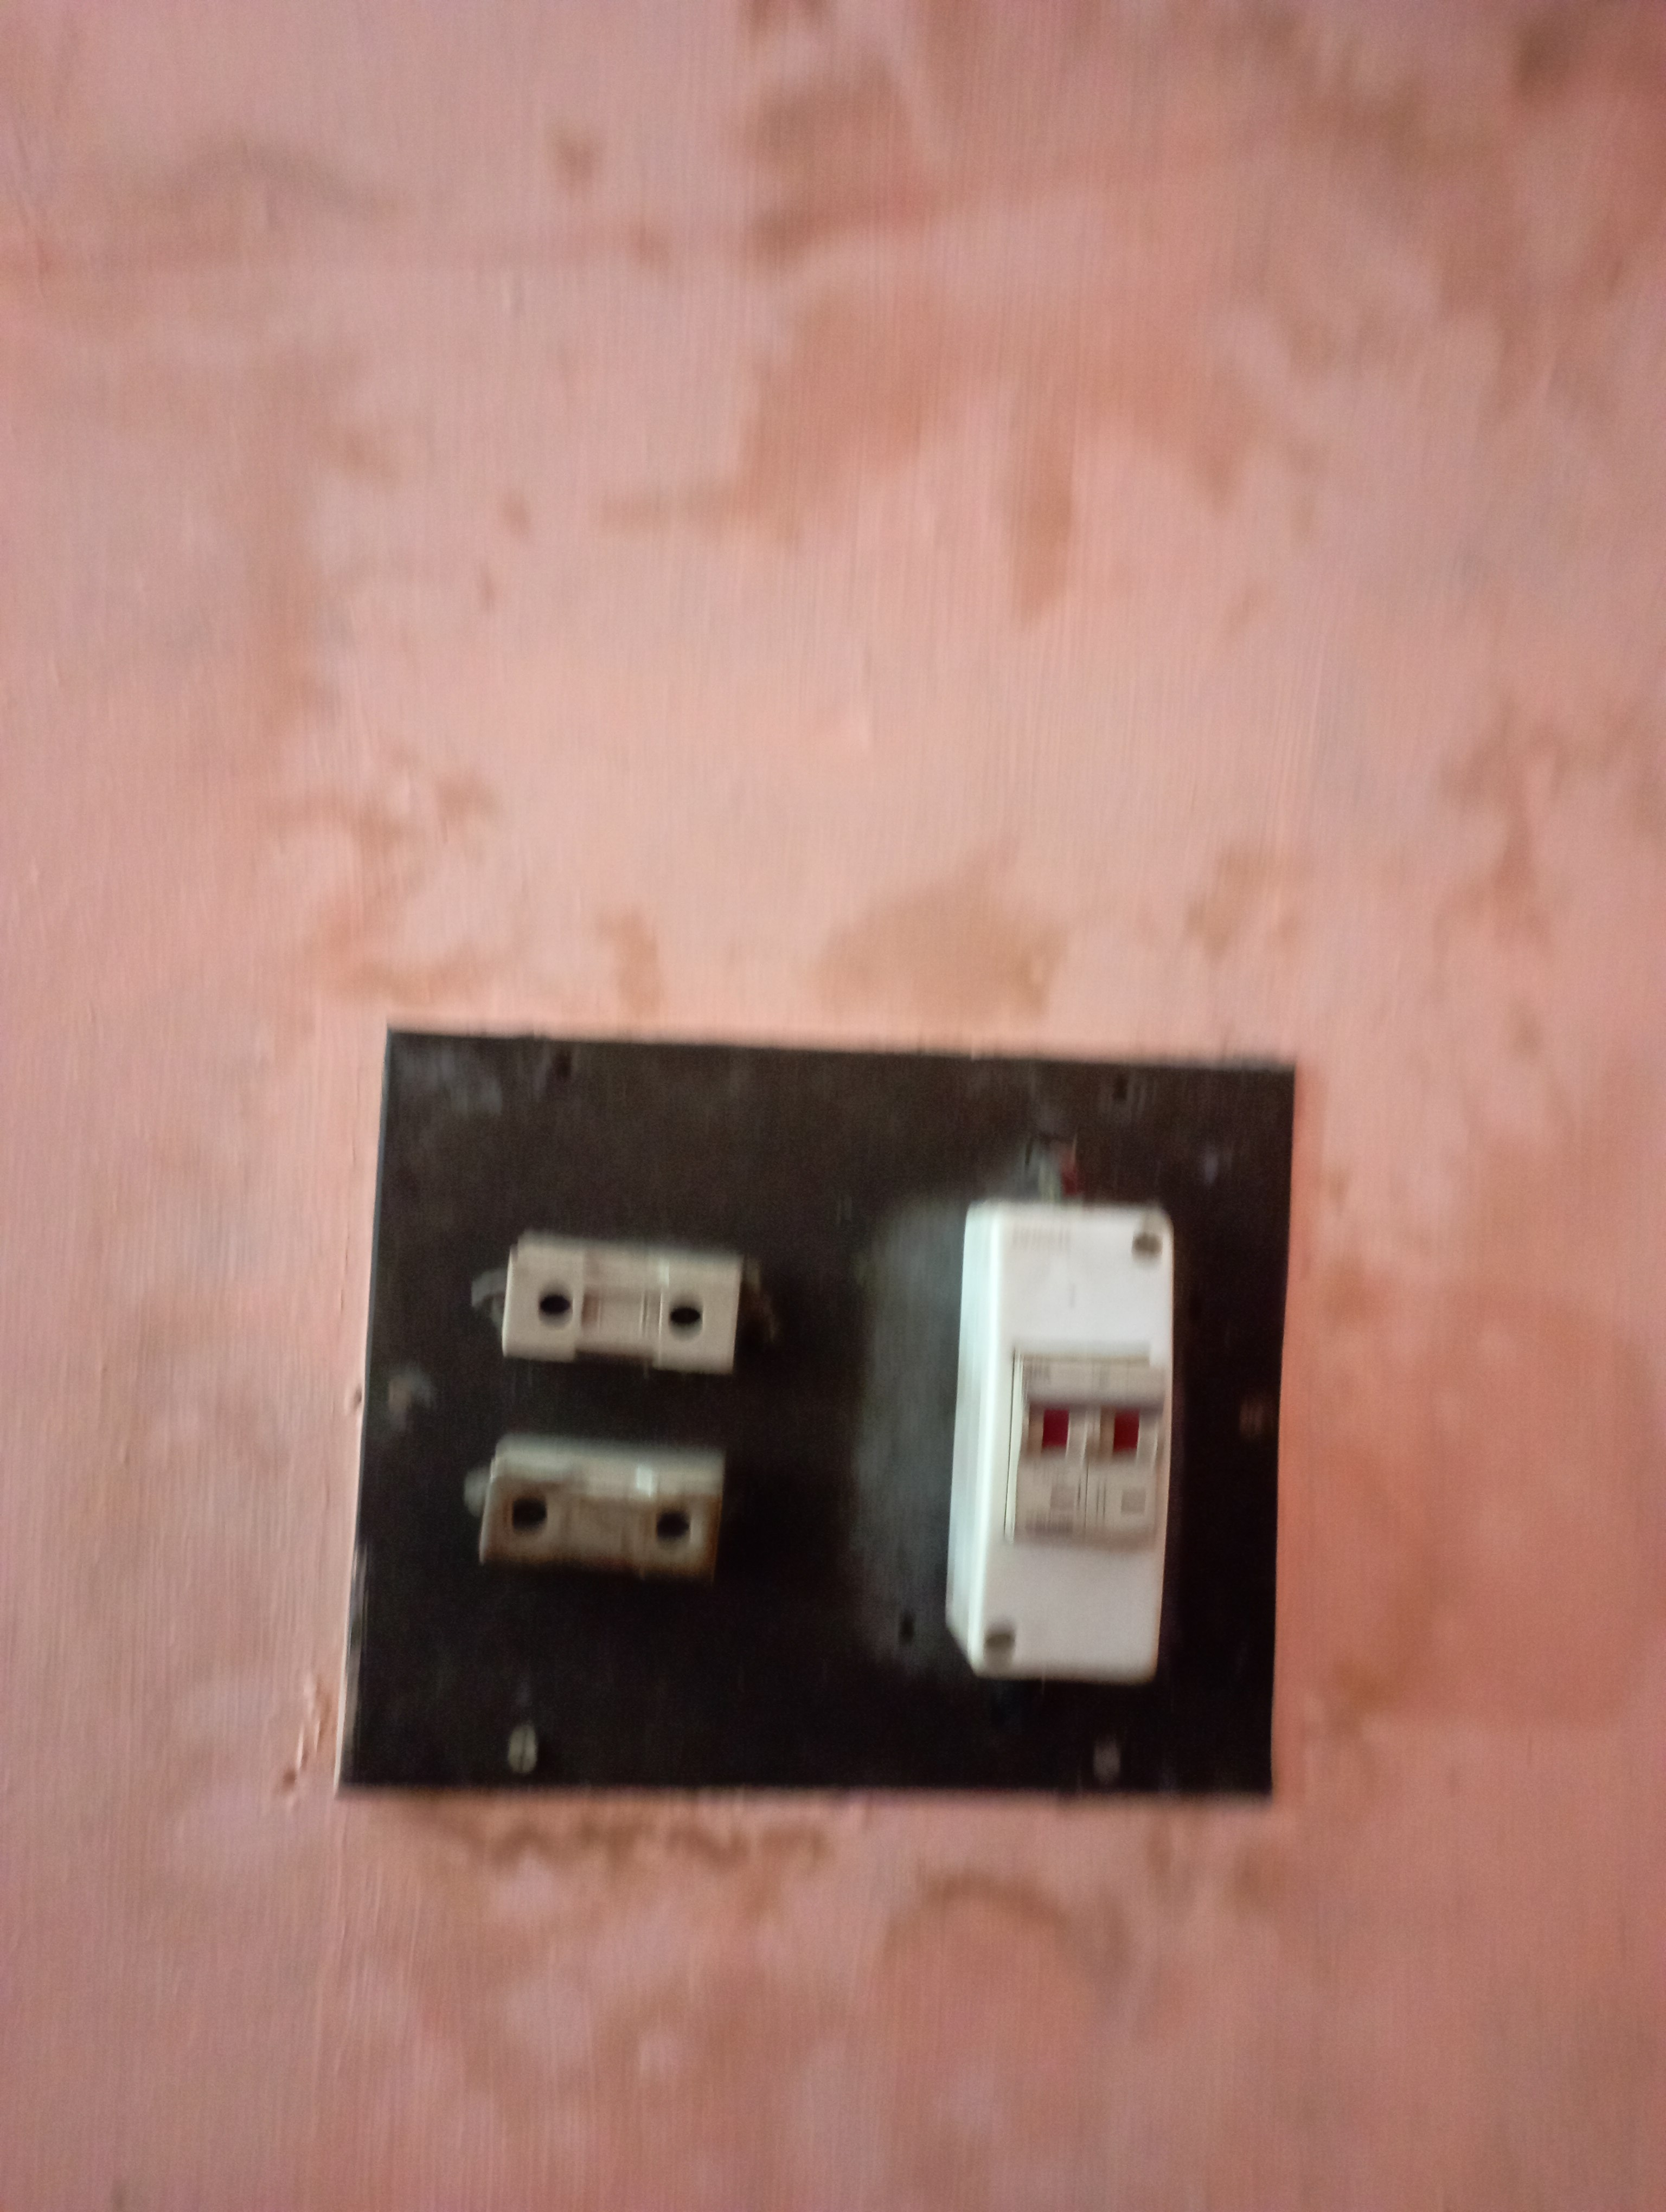ciruit_breaker: (929, 1180, 1150, 1679)
fuse: (476, 1215, 766, 1380), (472, 1441, 749, 1582)
